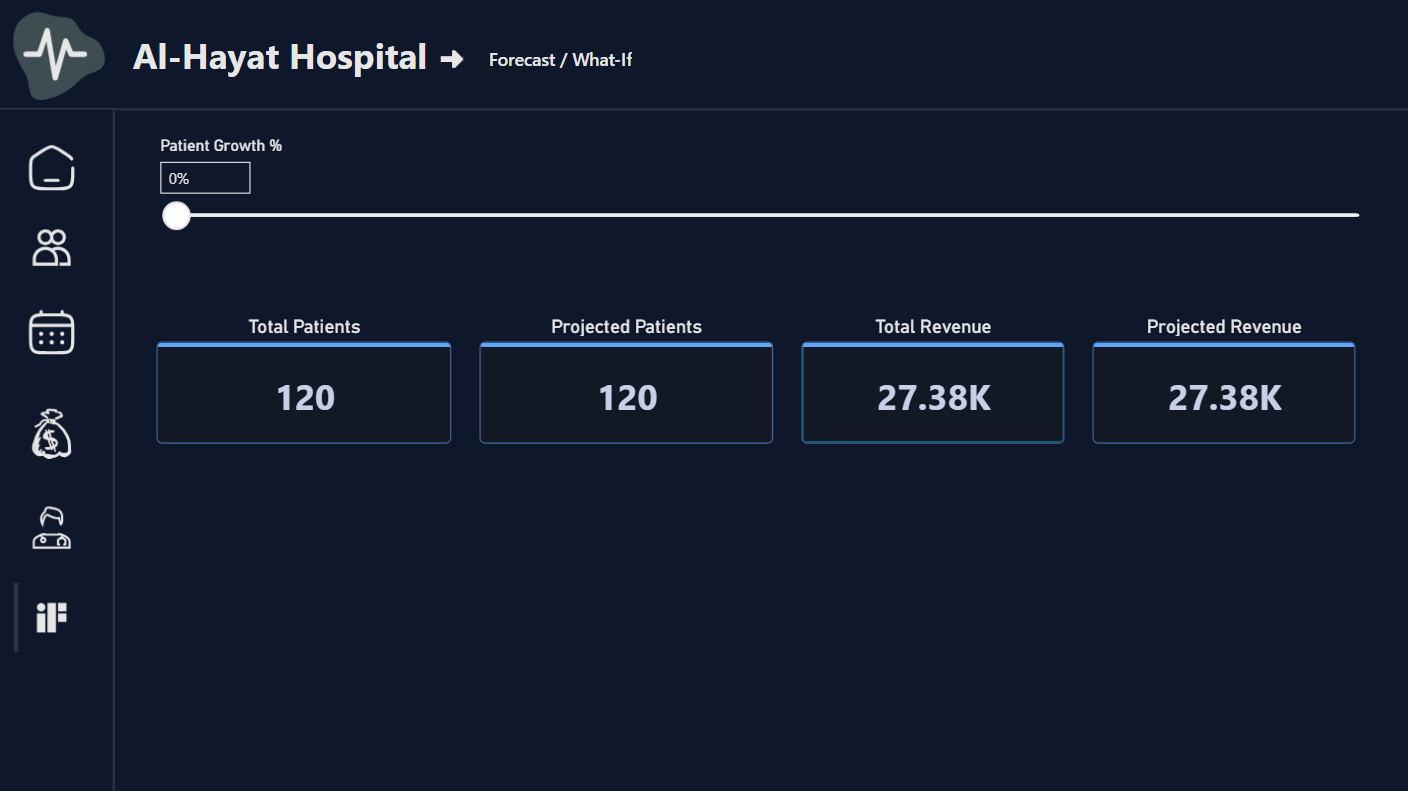

Layout of this report page (visuals, bound fields, positions):
{"tool":"powerbi","page":{"name":"Forecast/What-If","canvas":[1280,720],"ordinal":5},"visuals":[{"type":"shape","box":[105.8,74.2,1174.5,51.8],"z":0},{"type":"shape","box":[90,100.1,27,619.9],"z":1000},{"type":"shape","box":[0,88.9,105.8,21.4],"z":2000},{"type":"shape","box":[102.8,20.6,303.7,58.1],"z":3000},{"type":"actionButton","box":[0,0,104,100.4],"z":4000},{"type":"actionButton","box":[20.2,126,57.4,54],"z":5000},{"type":"actionButton","box":[20.2,198,57.4,54],"z":6000},{"type":"actionButton","box":[20.2,275.6,57.4,54],"z":7000},{"type":"actionButton","box":[20.2,367.9,57.4,54],"z":8000},{"type":"actionButton","box":[20.2,454.5,57.4,54],"z":9000},{"type":"actionButton","box":[20.2,535.5,57.4,54],"z":10000},{"type":"shape","box":[0,531,29.2,63],"z":11000},{"type":"slicer","fields":{"Values":["Patient Growth %.Patient Growth %"]},"box":[132.8,119.7,1123.8,516.7],"z":15000},{"type":"cardVisual","title":"Projected Revenue","fields":{"Data":["Measure.Projected Revenue"]},"box":[988.1,287.5,249.6,122.6],"z":16000},{"type":"cardVisual","title":"Total Patients ","fields":{"Data":["Measure.Total Patient"]},"box":[137.2,287.5,278.8,122.6],"z":16250},{"type":"cardVisual","title":"Projected Patients","fields":{"Data":["Measure.Projected Patients"]},"box":[431,287.5,277.3,122.6],"z":16375},{"type":"cardVisual","title":"Total Revenue","fields":{"Data":["Measure.Total Revenue"]},"box":[723.4,287.5,249.6,122.6],"z":16500},{"type":"actionButton","box":[396.3,40.4,228.4,29.2],"z":17000}]}

Visuals, with their boxes in screenshot pixels (x1, y1, x2, y2), scaled from the page's 1280x720 canvas onto the 1408x791 screenshot:
shape: Rect(116, 82, 1407, 138)
shape: Rect(99, 110, 129, 790)
shape: Rect(0, 98, 116, 121)
shape: Rect(113, 23, 447, 86)
actionButton: Rect(0, 0, 114, 110)
actionButton: Rect(22, 138, 85, 198)
actionButton: Rect(22, 218, 85, 277)
actionButton: Rect(22, 303, 85, 362)
actionButton: Rect(22, 404, 85, 464)
actionButton: Rect(22, 499, 85, 559)
actionButton: Rect(22, 588, 85, 648)
shape: Rect(0, 583, 32, 653)
slicer - Patient Growth %.Patient Growth %: Rect(146, 132, 1382, 699)
"Projected Revenue" cardVisual: Rect(1087, 316, 1361, 451)
"Total Patients " cardVisual: Rect(151, 316, 458, 451)
"Projected Patients" cardVisual: Rect(474, 316, 779, 451)
"Total Revenue" cardVisual: Rect(796, 316, 1070, 451)
actionButton: Rect(436, 44, 687, 76)
